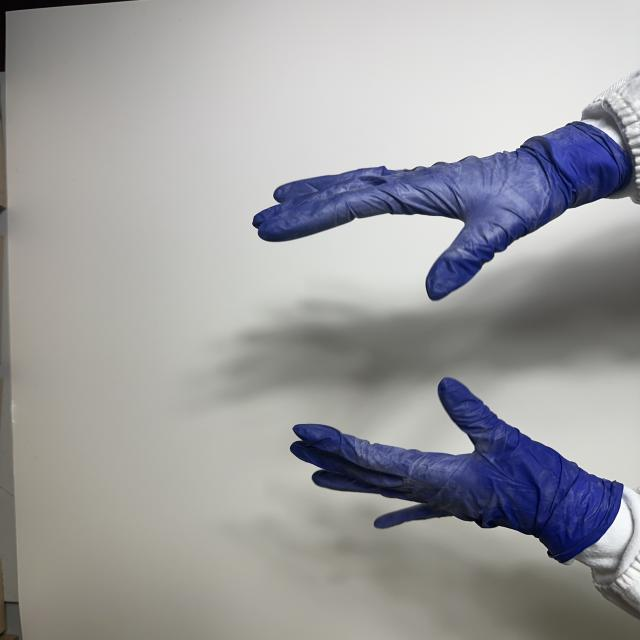gloves_contaminated: (253, 123, 632, 300), (290, 378, 622, 561)
